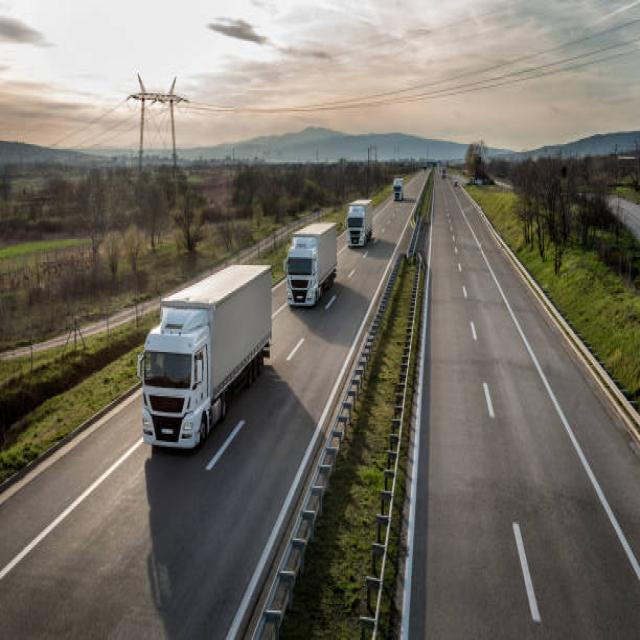16-Wheelers: (136, 262, 272, 450), (283, 221, 337, 308), (345, 198, 372, 247)
